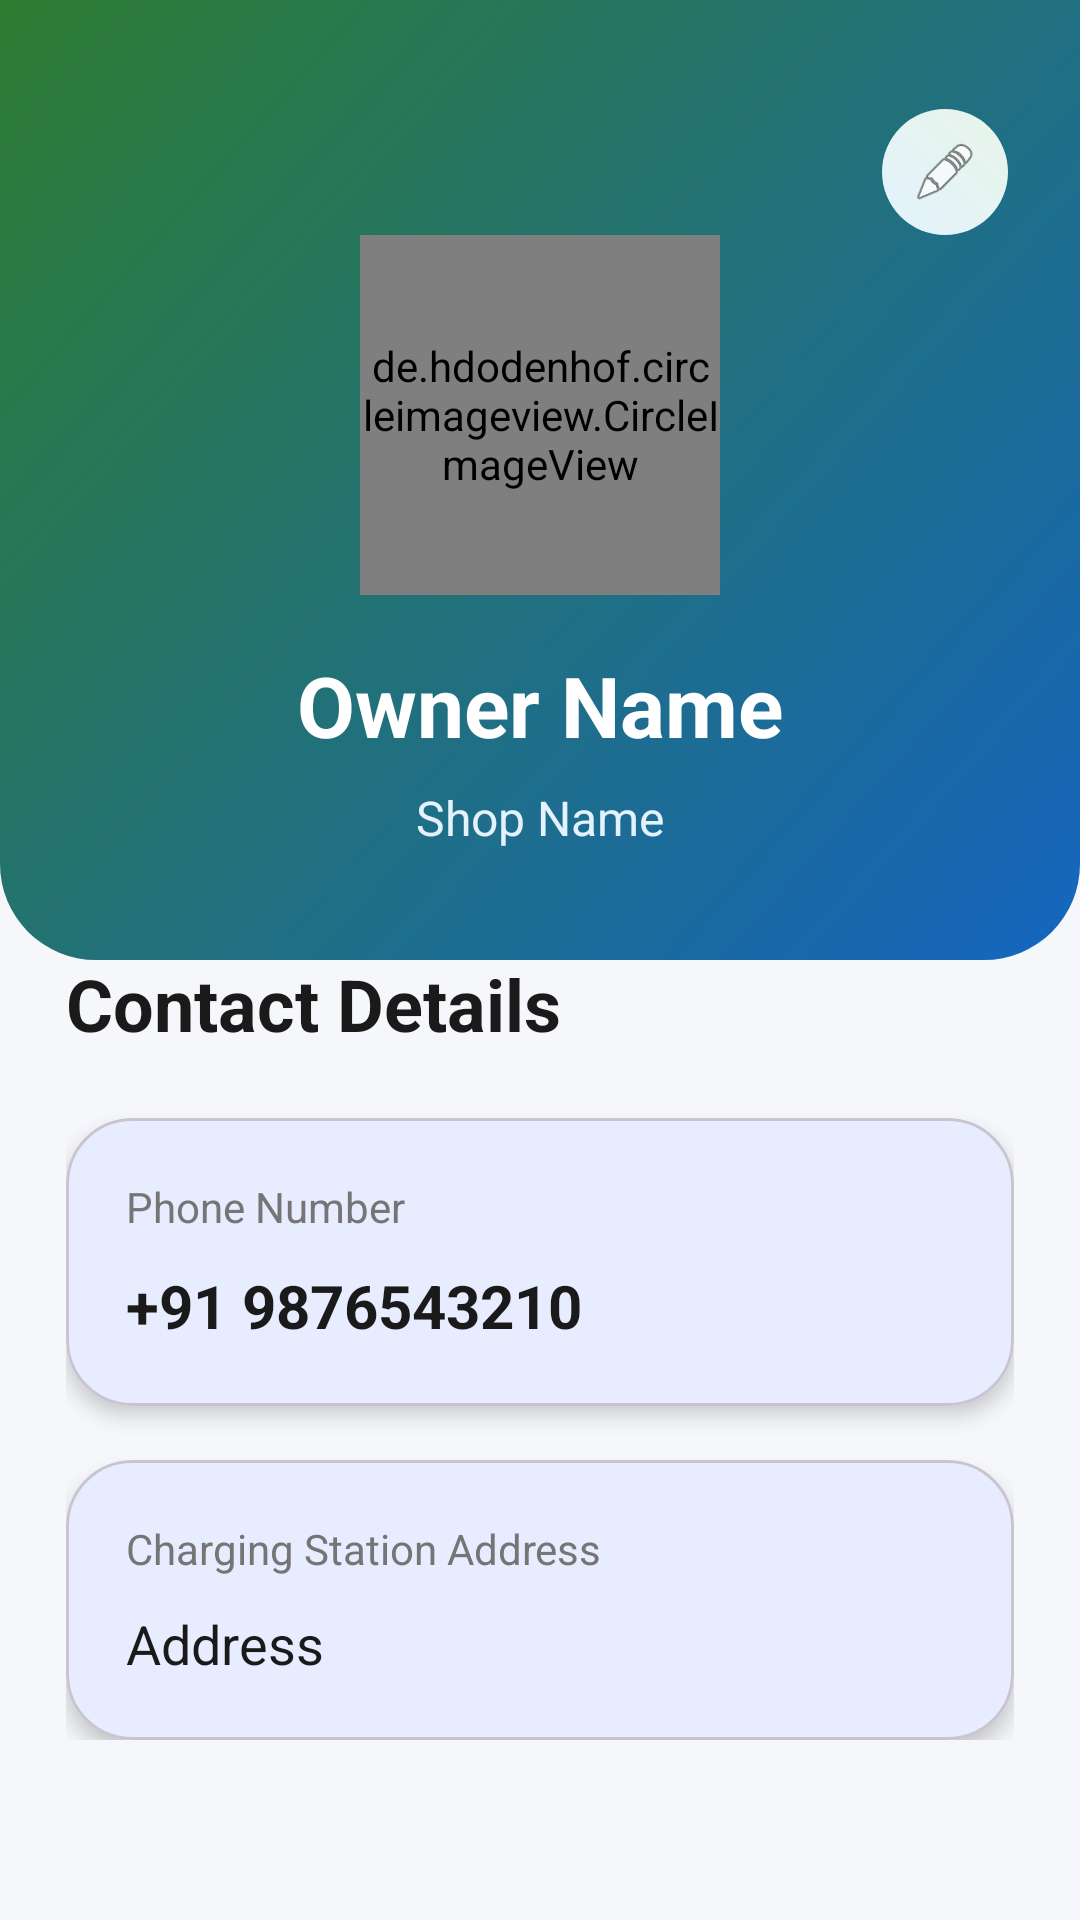

Point at icon controls on the screen. Image size 1080w x 1920h, points as [x,y].
edit: [945,172]
